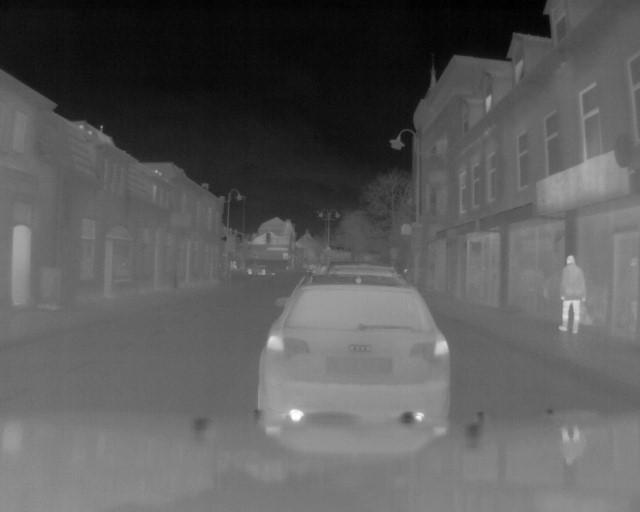car: (260, 282, 457, 426)
person: (558, 252, 588, 332)
